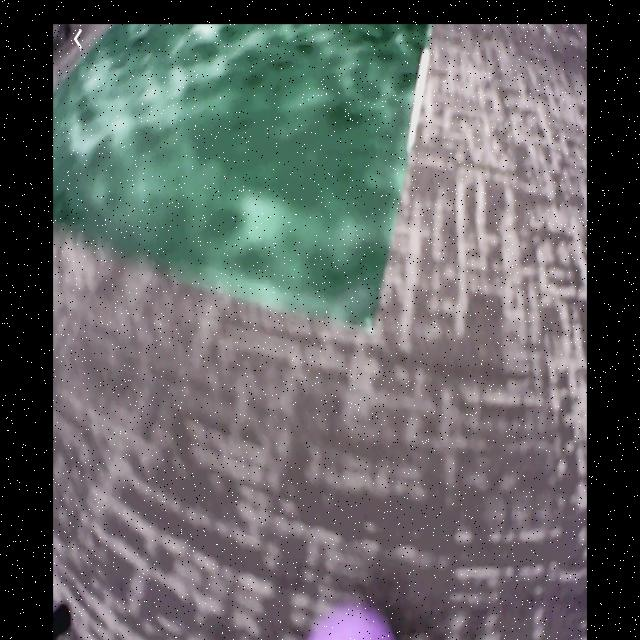ball: (308, 607, 393, 640)
